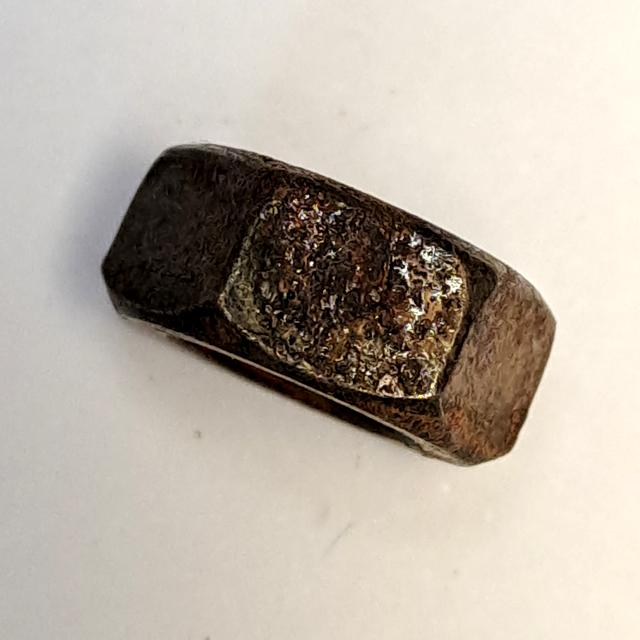Side_Rust: (87, 126, 569, 477)
